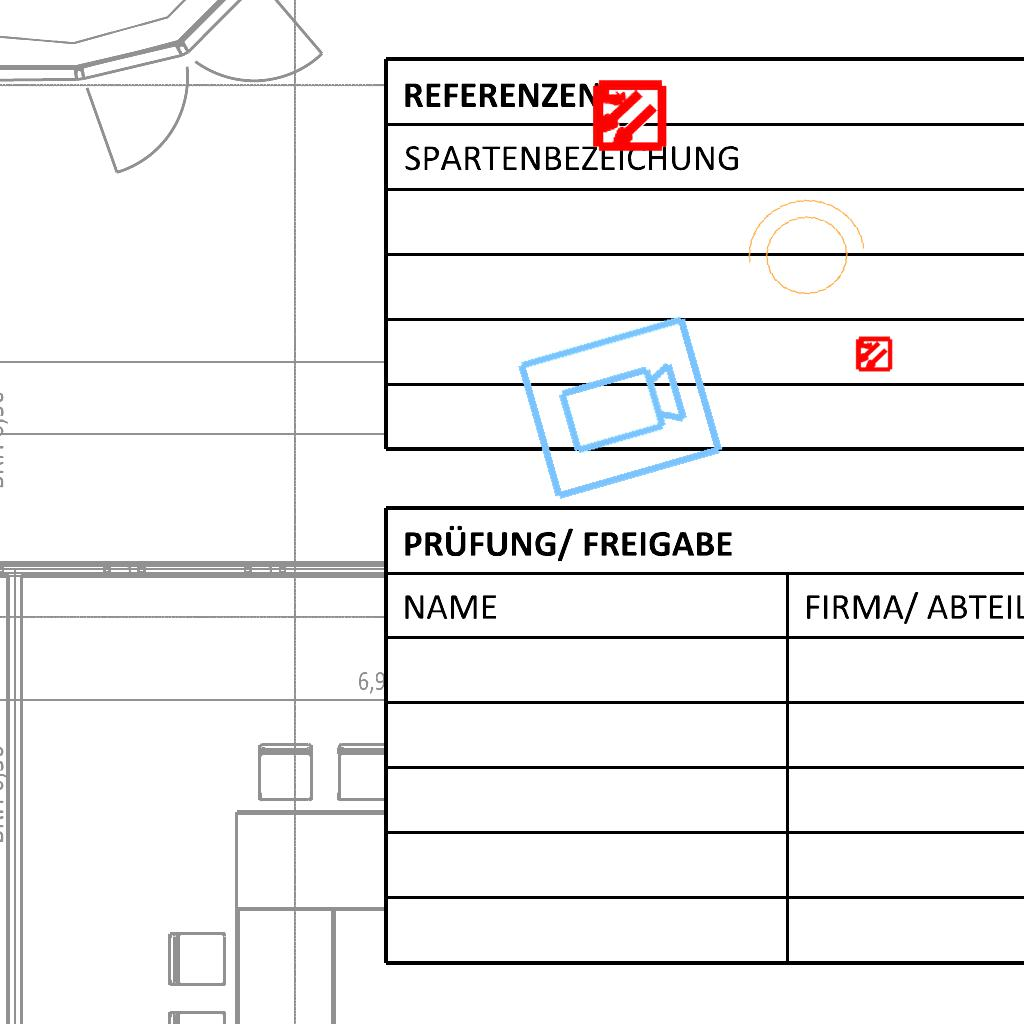KFO_Kamera_mit_Festobjektiv: (511, 309, 729, 509)
OT_Multisensormelder_(Kombination_RMO_WMD): (571, 59, 684, 172), (845, 326, 901, 382)
Scheinwerfer_fuer_Alarmbeleuchtung: (730, 187, 876, 315)
